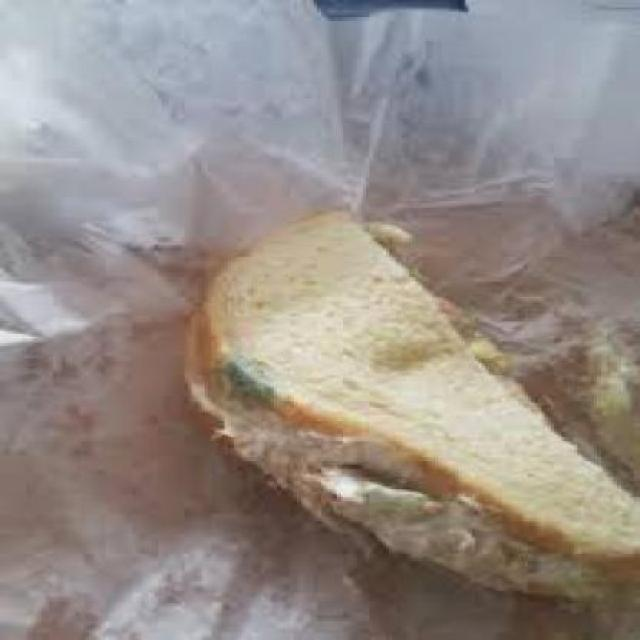BIODEGRADABLE: (181, 205, 637, 602)
